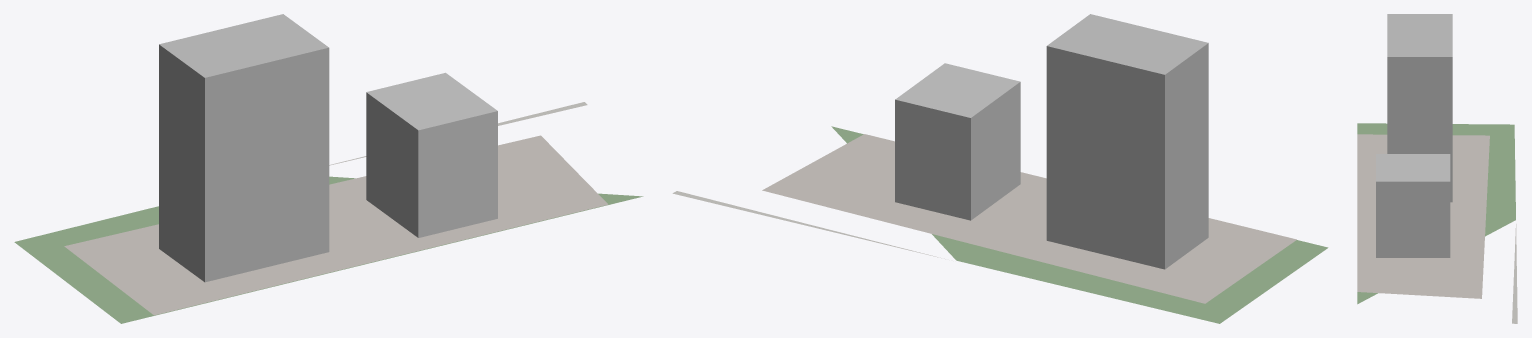
Rendered from 117_73_mid.glb.
3 renders of one model, left to right at view 1: azimuth 30°, elevation 25°; view 2: azimuth 150°, elevation 25°; view 3: azimuth 270°, elevation 25°, orthographic. The views are drawn at different scales.
Bounding box in the file's own units: 241 × 82.21 × 81.65.
